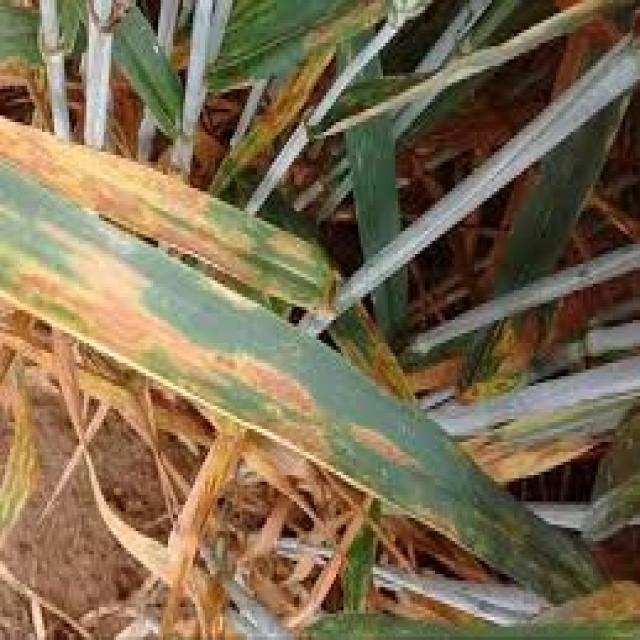leaf_blight: (0, 165, 598, 600), (0, 115, 334, 307)
